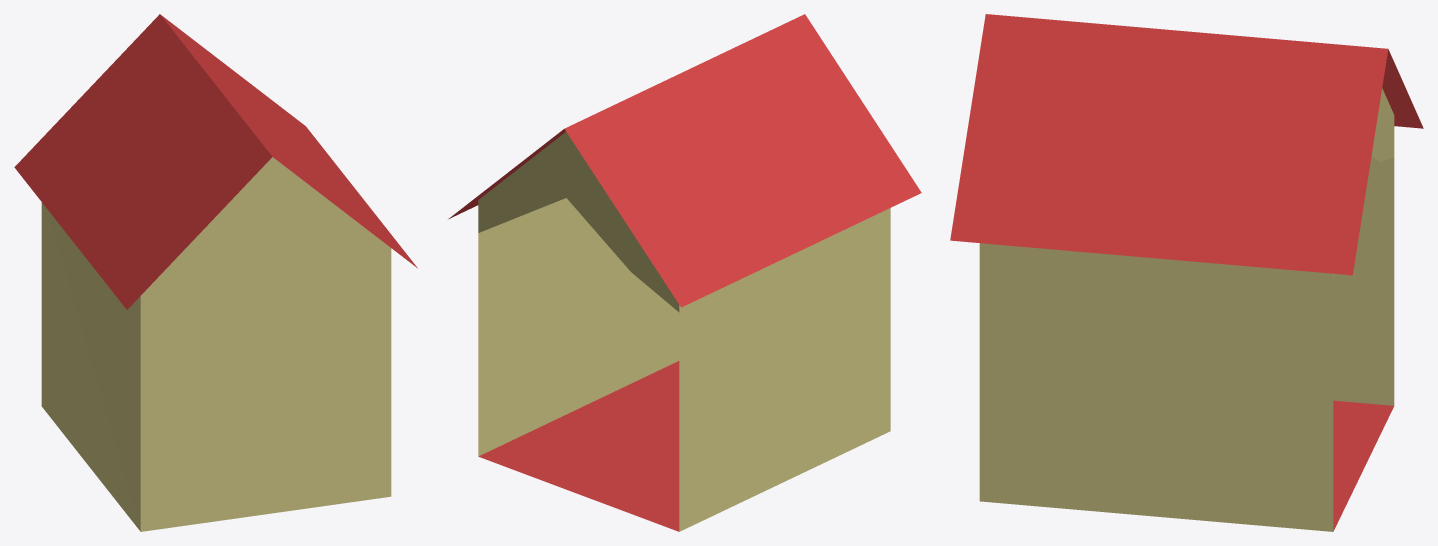
The picture shows the model from 3 angles, left to right: view 1: azimuth 30°, elevation 25°; view 2: azimuth 150°, elevation 25°; view 3: azimuth 270°, elevation 25°; orthographic projection. The views are drawn at different scales.
Size of the model in its own units: 12.94 by 14.27 by 14.03.
